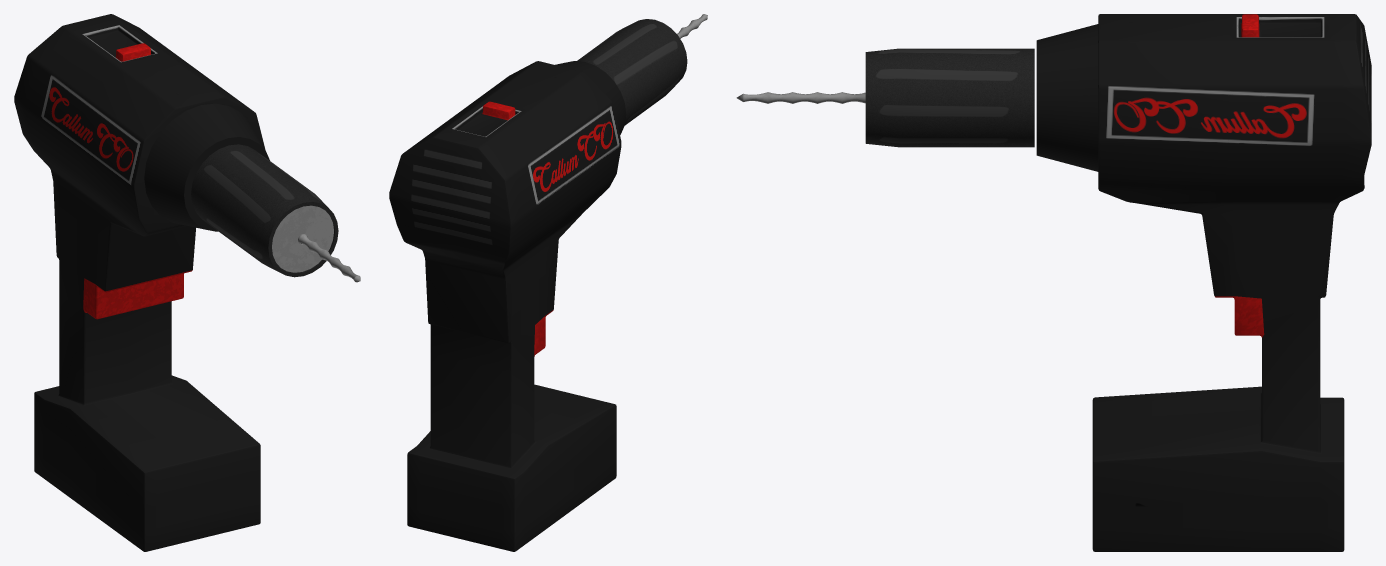
Rendered from Drill.fbx.
3 views of the same model, side by side, from view 1: azimuth 30°, elevation 25°; view 2: azimuth 150°, elevation 25°; view 3: azimuth 270°, elevation 25° (orthographic). The views are drawn at different scales.
Parts seen in each view (by area): view 1: drill001, drill bit; view 2: drill001, drill bit; view 3: drill001, drill bit.
Part boxes in pixels (left/top/right/bottom): drill001: left=14, top=14, right=269, bottom=551; drill bit: left=191, top=144, right=360, bottom=282; drill001: left=389, top=61, right=626, bottom=551; drill bit: left=577, top=14, right=707, bottom=125; drill001: left=1036, top=14, right=1371, bottom=551; drill bit: left=736, top=48, right=1034, bottom=147.
Bounding box in the file's own units: 16.55 × 52.44 × 60.56.
